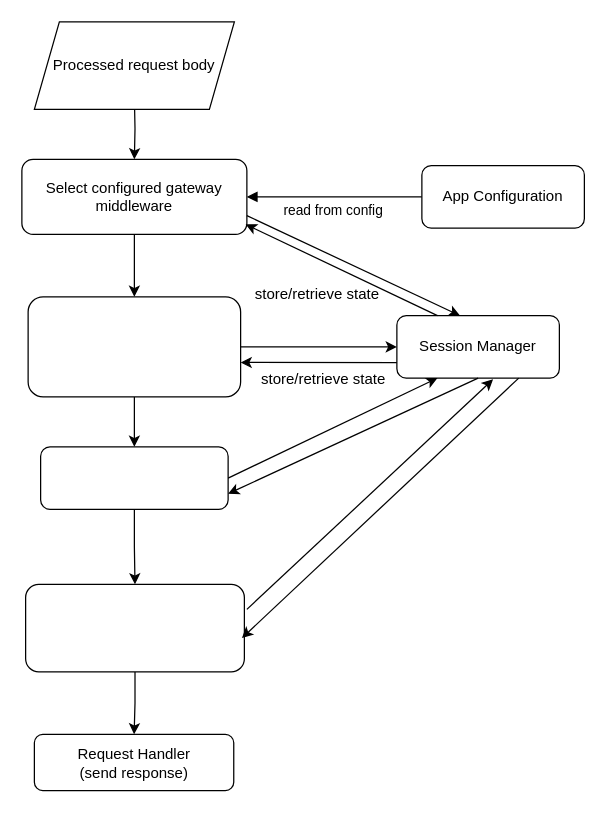
Image size: 606x813. Some labels were removed from this diagram. The shapes that lost their labels are listed below. From the top down, each one's centre as x and y in pixels, then its label:
the point at 134,346: Transform body to standard type based on configured gateway
the point at 133,477: Menu Builder
the point at 134,627: Re-transform standard type to gateway response format
